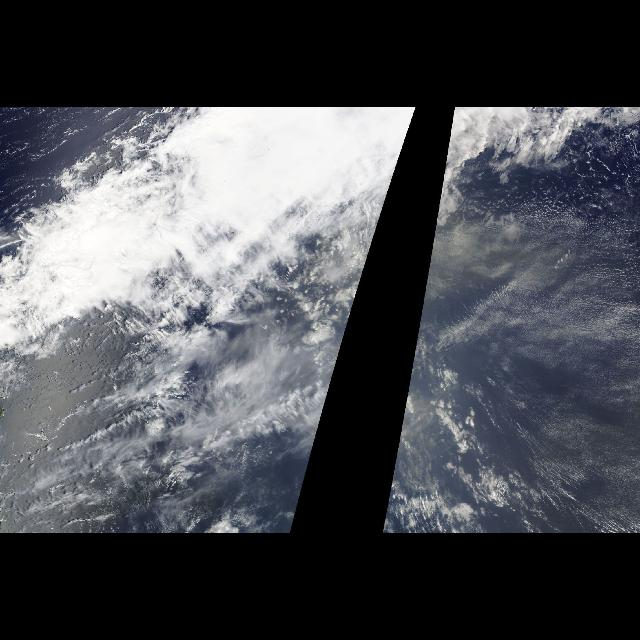Sugar: (432, 218, 640, 532)
